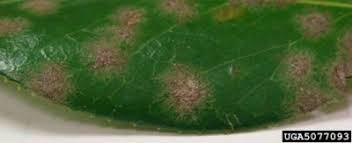Diseased_Leaves: (288, 11, 351, 107), (114, 3, 260, 30), (166, 67, 208, 111), (5, 3, 55, 32), (29, 68, 66, 98), (93, 40, 123, 70)
